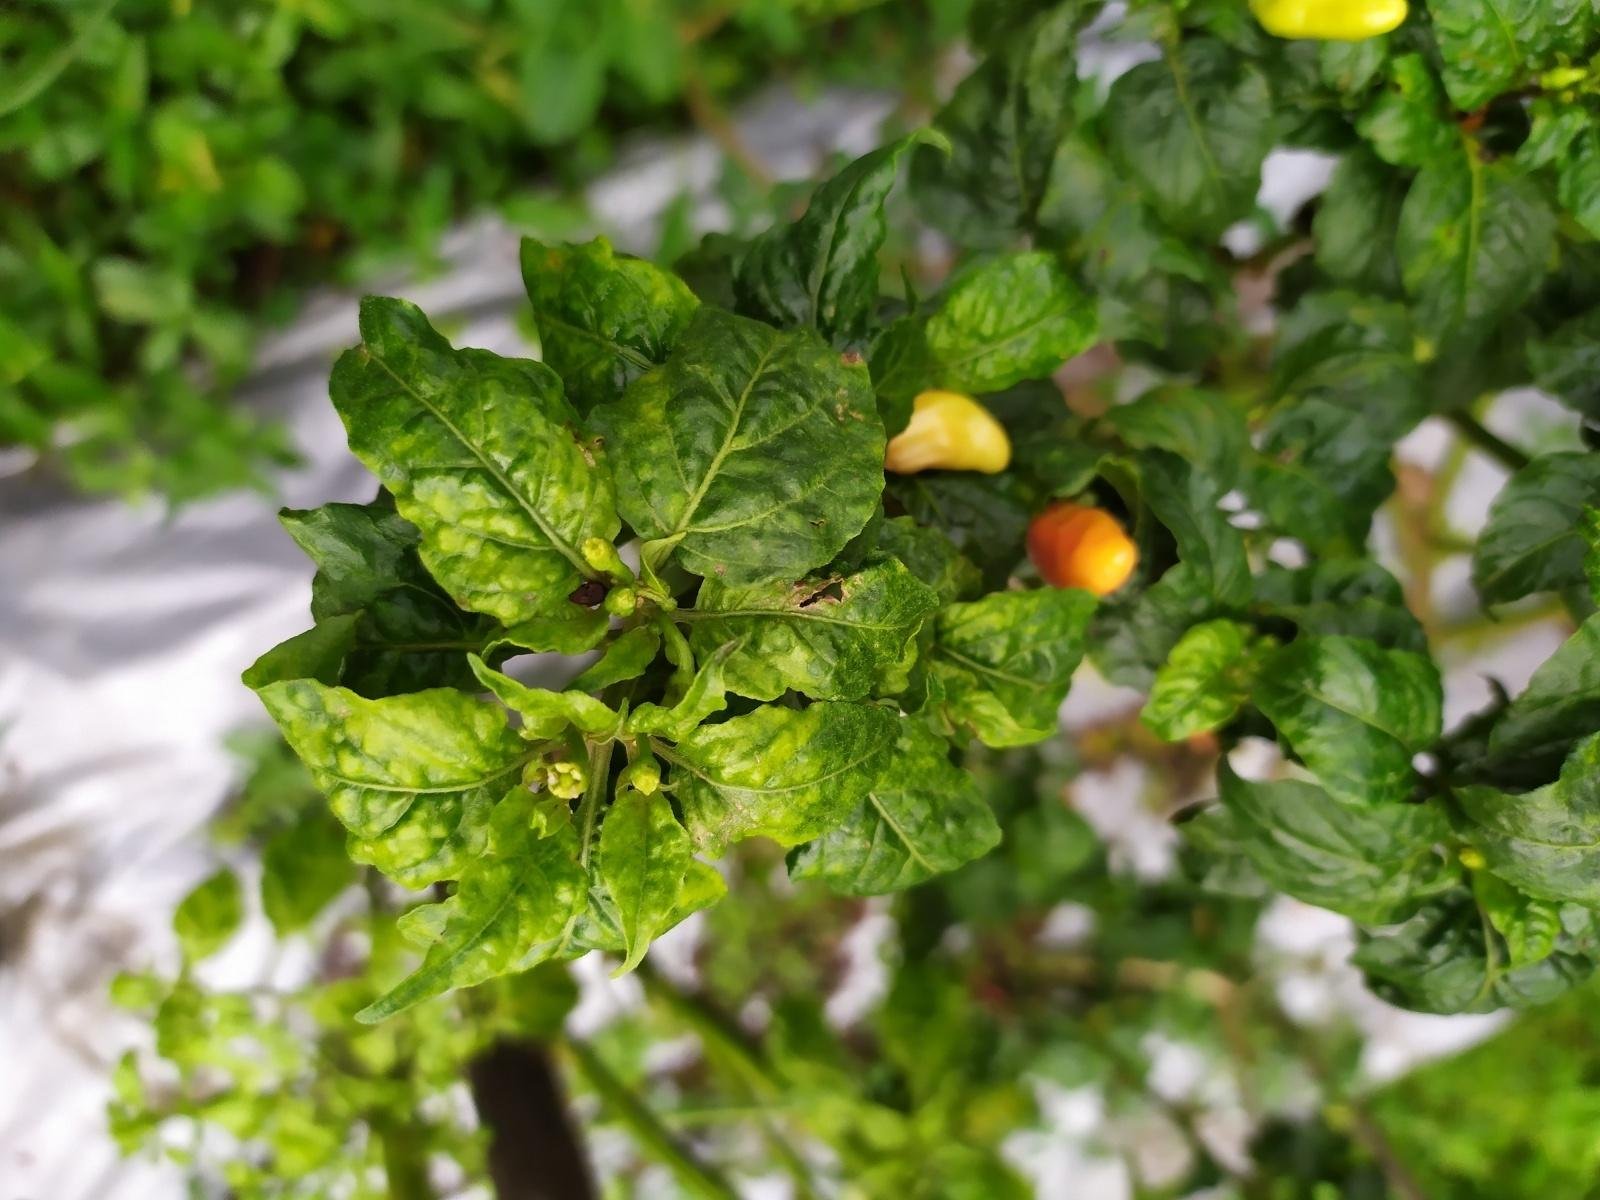cabai_normal: (882, 392, 1010, 475), (1023, 507, 1139, 595)
